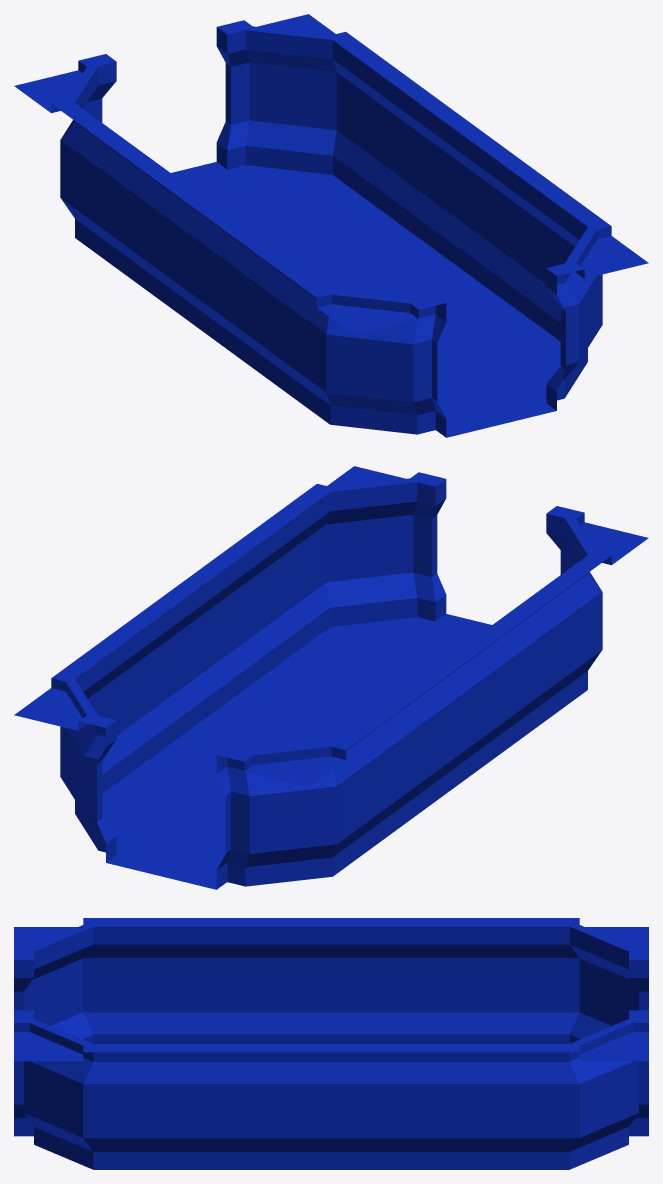
Rendered from 2x1_Corridor.FBX.
The picture shows the model from 3 angles, top to bottom: view 1: azimuth 30°, elevation 25°; view 2: azimuth 150°, elevation 25°; view 3: azimuth 270°, elevation 25°; orthographic projection. The views are drawn at different scales.
Visible parts, largest first — view 1: 2x1_Corridor; view 2: 2x1_Corridor; view 3: 2x1_Corridor.
Part boxes in pixels (box(x1,y1,x2,y2)): 2x1_Corridor: box(14, 14, 648, 437); 2x1_Corridor: box(14, 466, 648, 889); 2x1_Corridor: box(14, 918, 648, 1169).
Size of what is drawn, in the model's own units: 800 by 350 by 1600.
